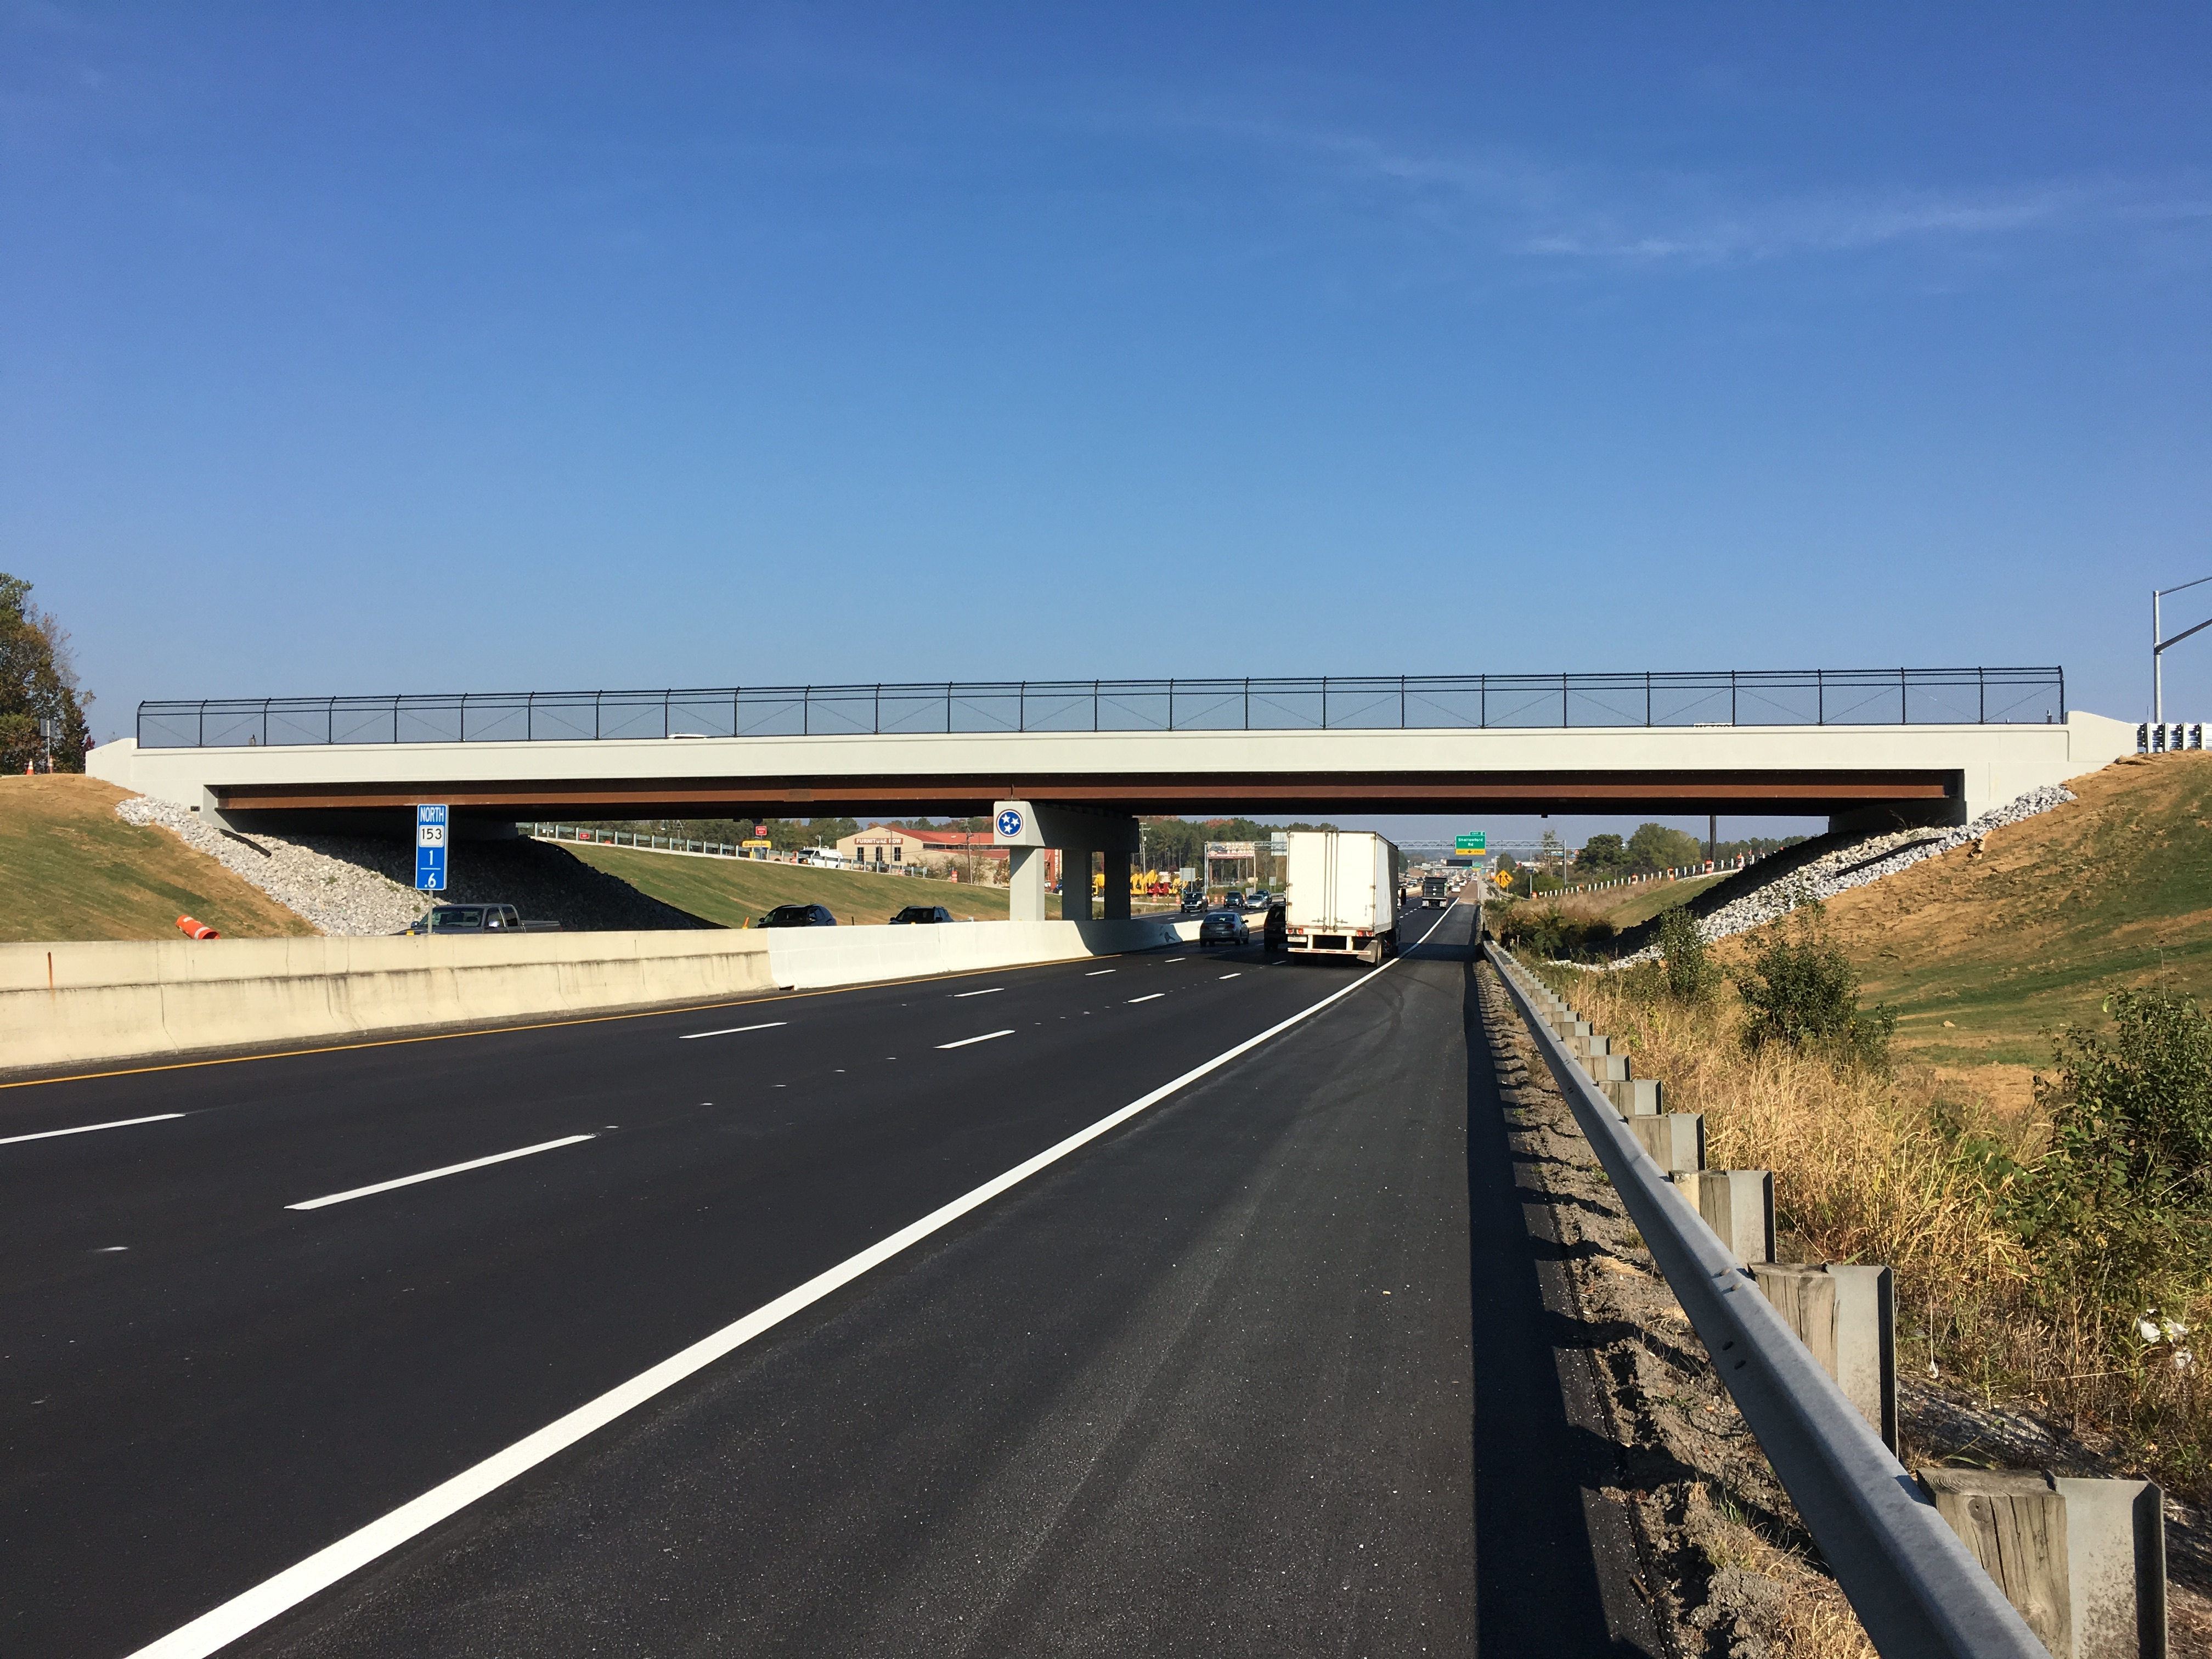bridge: (87, 650, 2163, 812)
